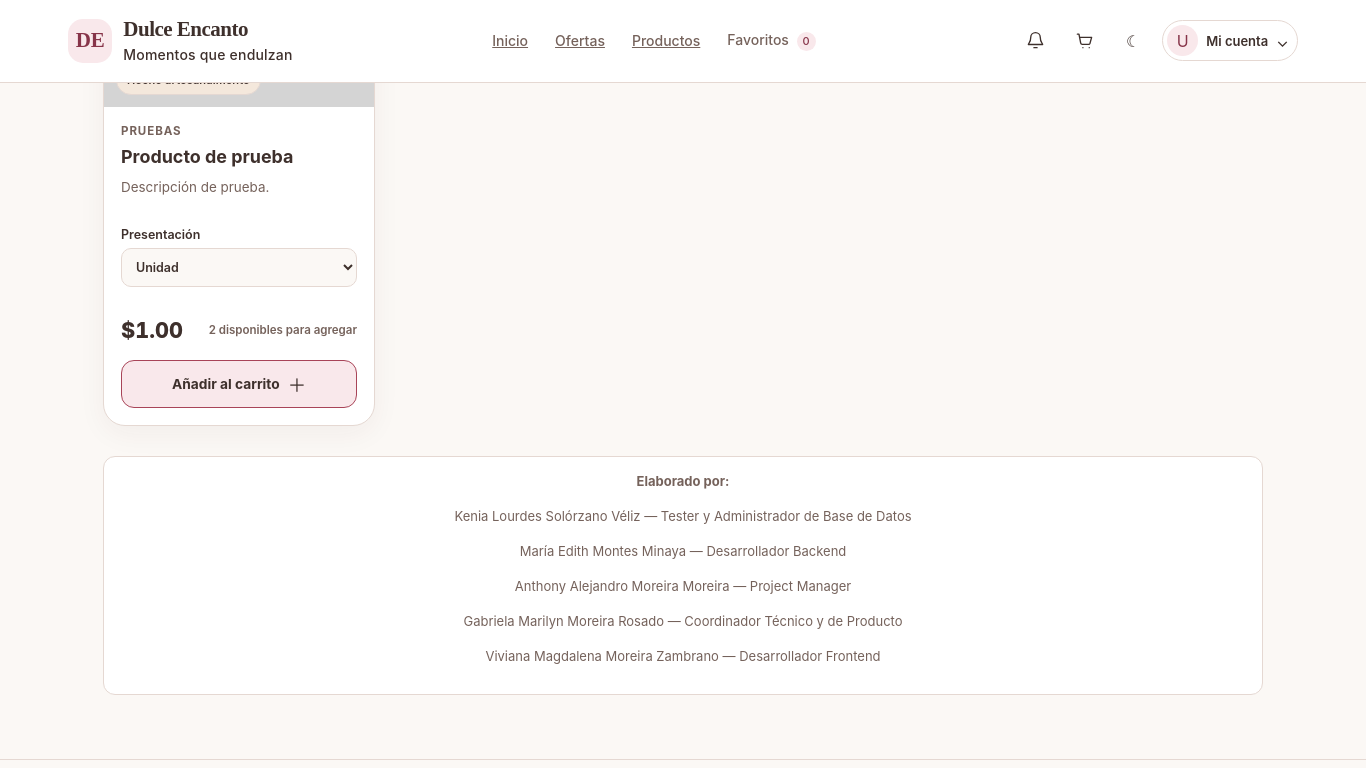
Test: Casos límite del catálogo › muestra el aviso cuando se añade un producto al carrito
The image size is (1366, 768).
(page scrolled)
Click the button with aria-label "Agregar Producto de prueba al carrito".
click(239, 384)  # box [121,360,357,408]
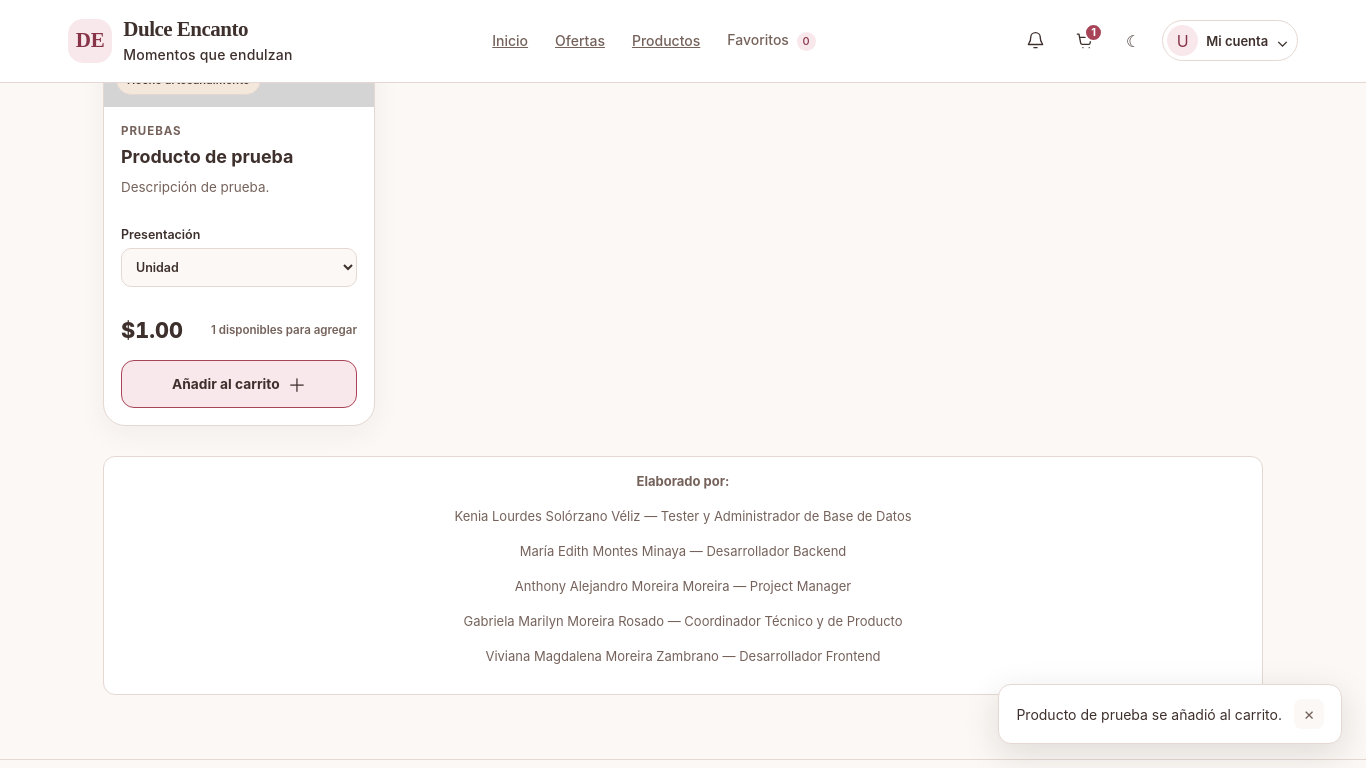
Check: the text "Producto de prueba se añadió al carrito." is shown, box [1016,704,1282,724]
Check: the message "Producto de prueba se añadió al carrito. ×" is shown, box [998,684,1342,744]
